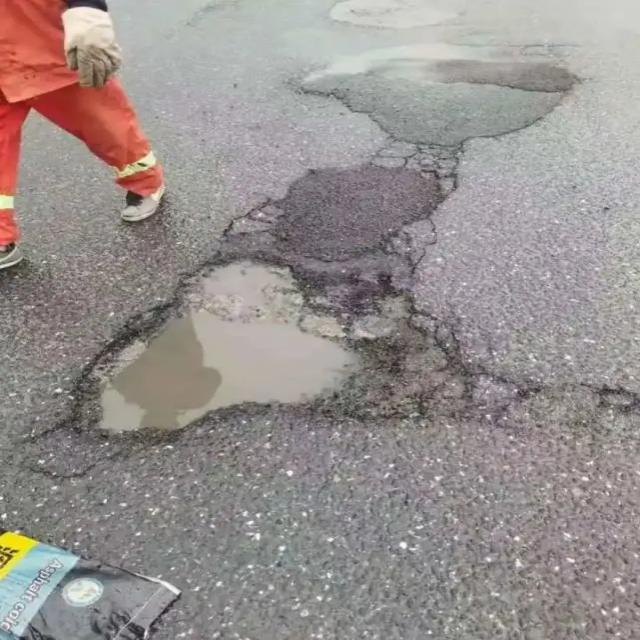Pothole: (70, 251, 413, 446)
